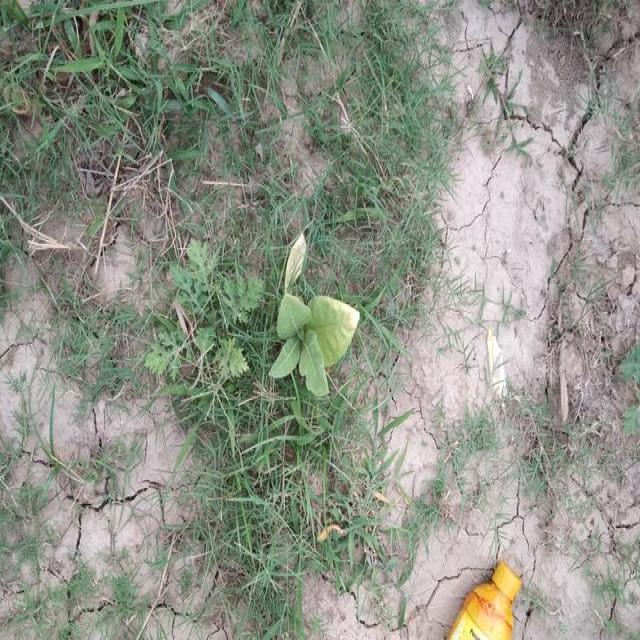crop: (269, 276, 366, 404)
